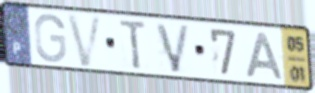7: (207, 27, 237, 77)
A: (244, 30, 286, 82)
G: (32, 11, 68, 64)
T: (118, 18, 149, 71)
V: (64, 12, 106, 68), (154, 21, 193, 75)
